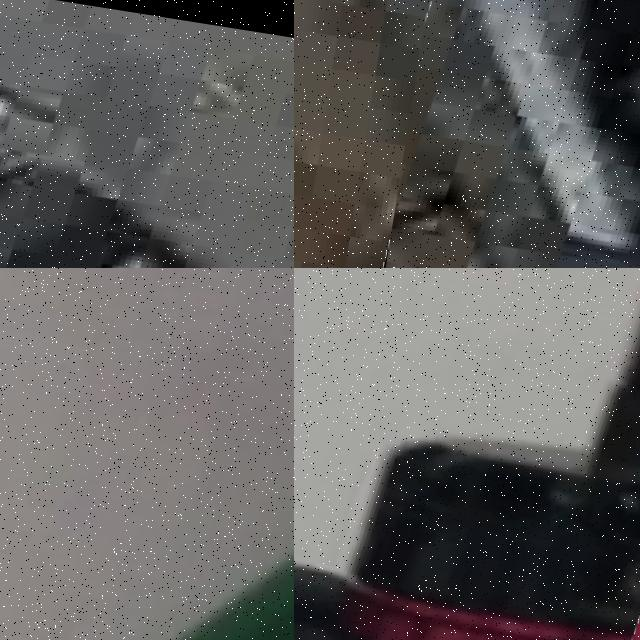0: (0, 0, 294, 268), (364, 0, 640, 268)
drone: (294, 268, 640, 640), (0, 268, 294, 640)
